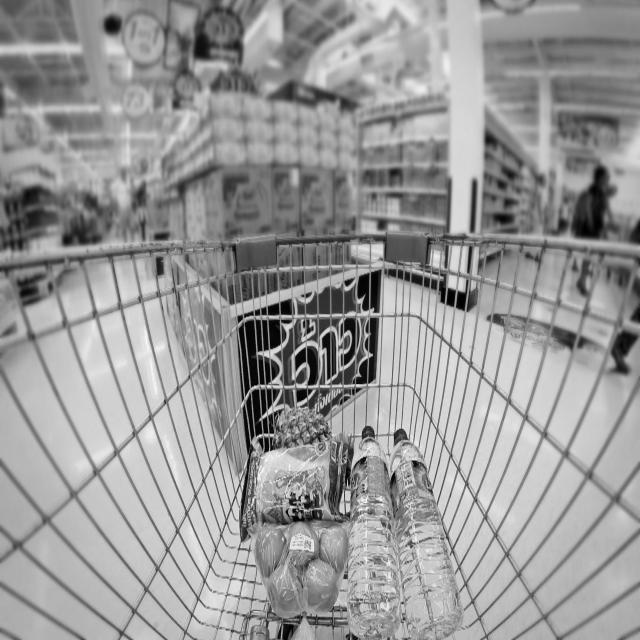apple: (250, 513, 356, 615)
pineapple: (269, 404, 354, 487)
